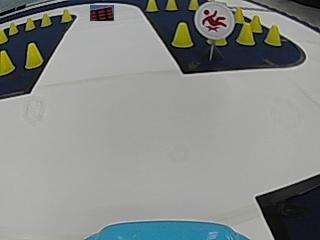cone: (171, 22, 193, 48), (24, 42, 42, 69), (264, 23, 281, 46), (237, 23, 254, 46), (0, 50, 14, 75), (250, 14, 261, 32), (145, 0, 158, 12), (60, 8, 71, 22), (25, 17, 35, 31), (41, 13, 51, 27), (9, 21, 18, 36), (165, 0, 177, 11), (0, 29, 7, 44), (188, 0, 198, 10)
tumble: (198, 5, 232, 35)
